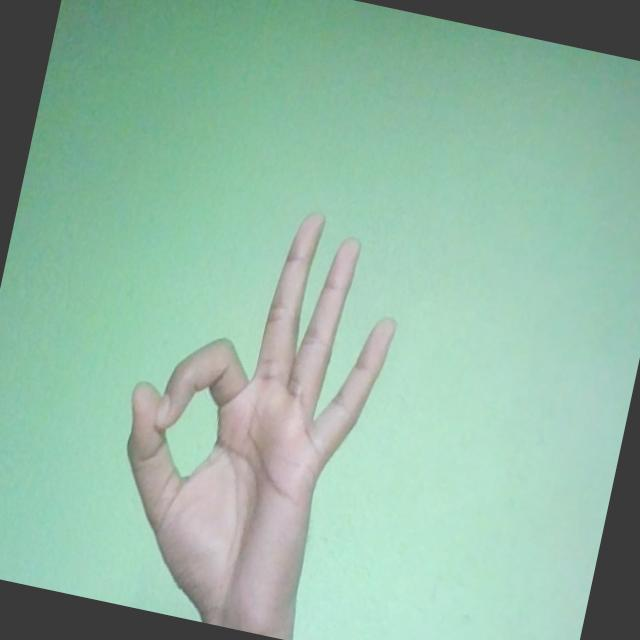Rock On: (88, 180, 414, 640)
